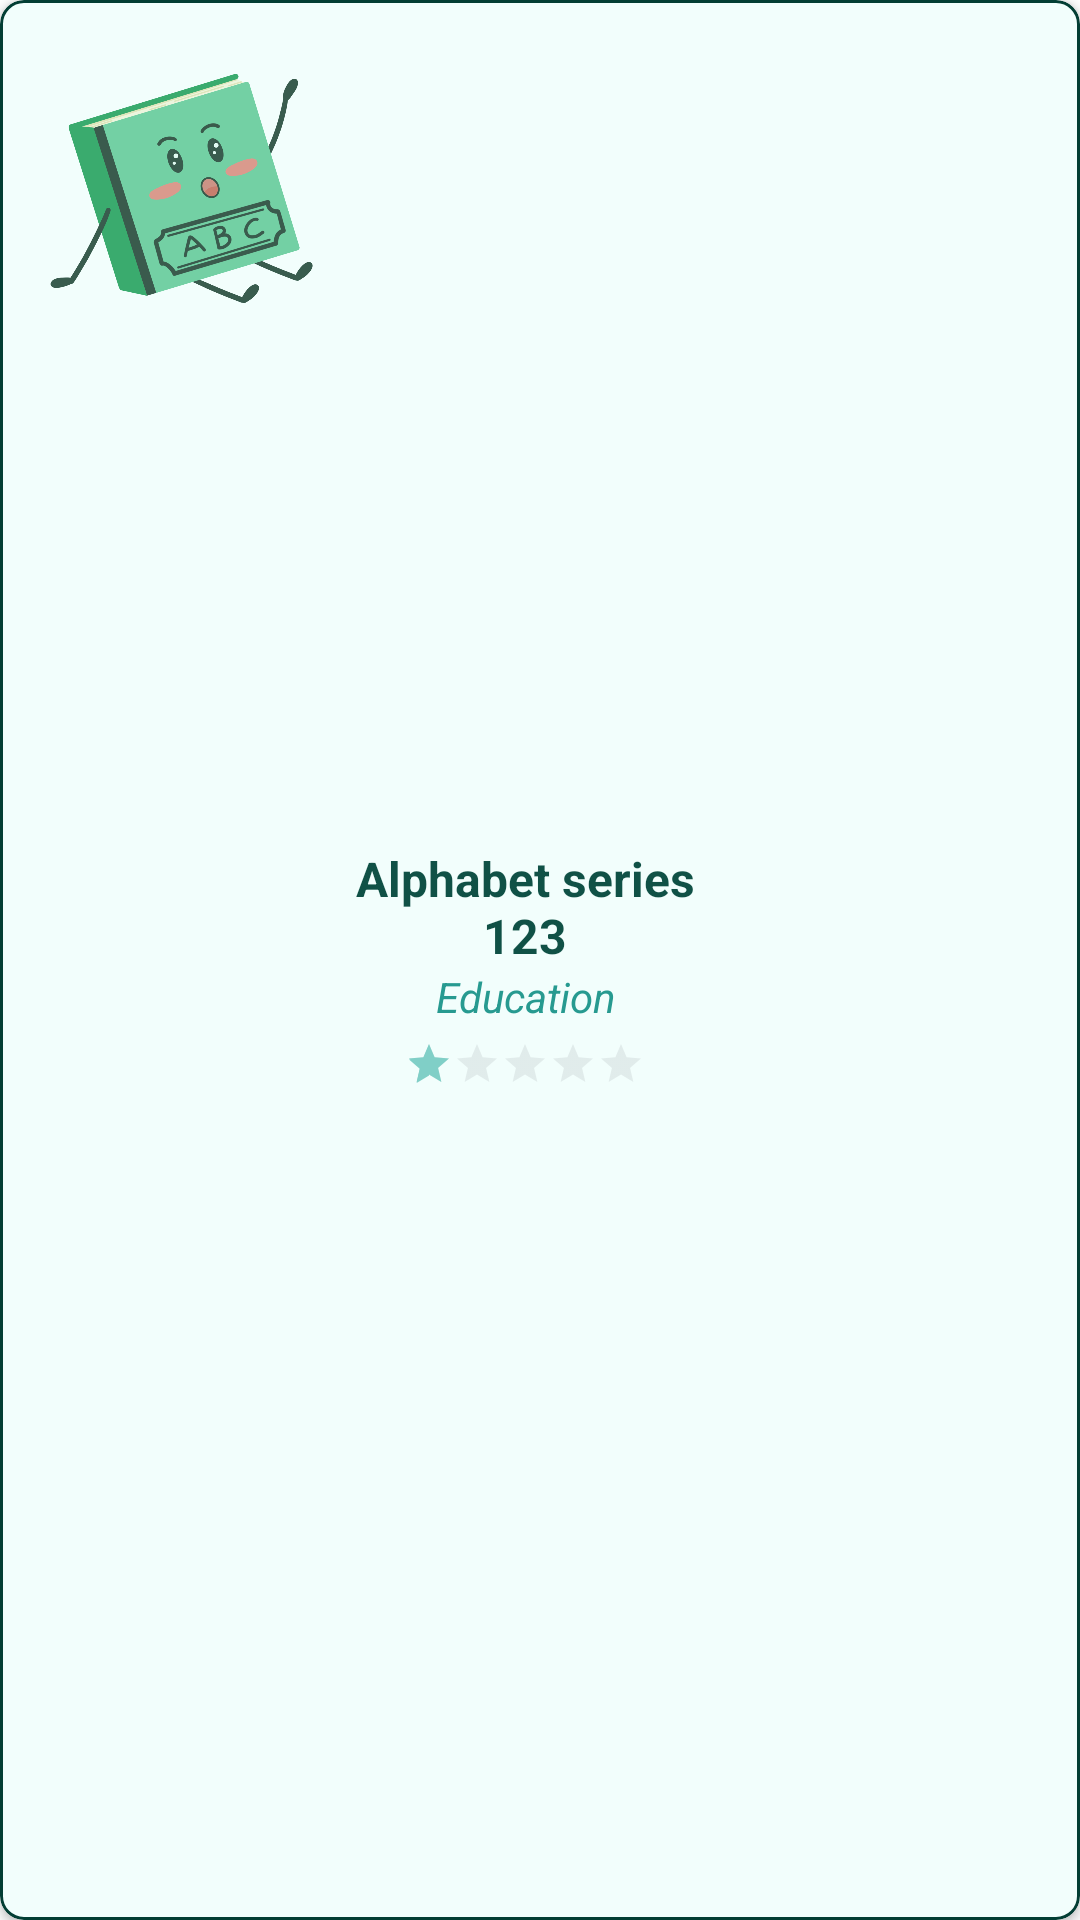

Locate icon controls on the screen. Image size 1080px×1920px, boxes as [x1,y1,x2,y2].
book: [50,74,313,303]
